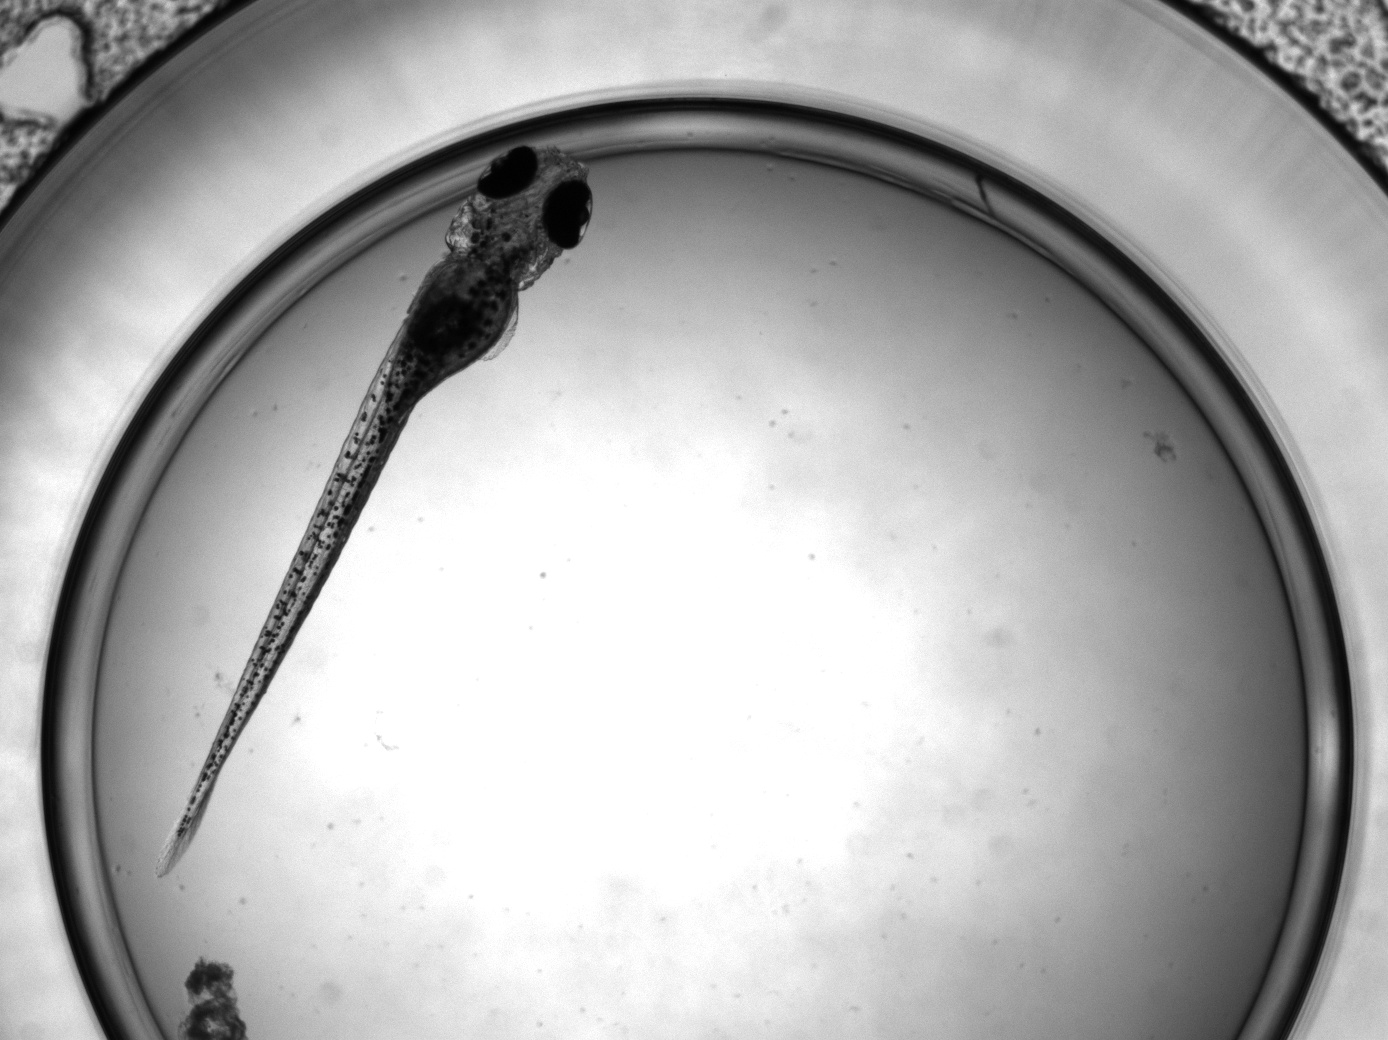embryo: (159, 144, 593, 878)
eye: (539, 176, 593, 250), (475, 144, 538, 199)
yolksac: (382, 253, 517, 383)
